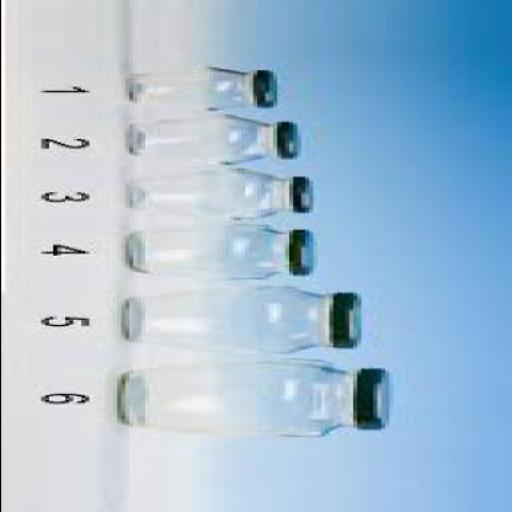glass: (120, 360, 360, 435), (128, 284, 336, 354), (128, 223, 292, 279), (132, 166, 292, 220), (128, 112, 276, 164), (132, 65, 252, 111)
metal: (328, 290, 364, 348), (360, 367, 388, 428), (296, 229, 324, 274), (288, 174, 316, 212), (252, 70, 280, 106), (279, 119, 304, 159)
